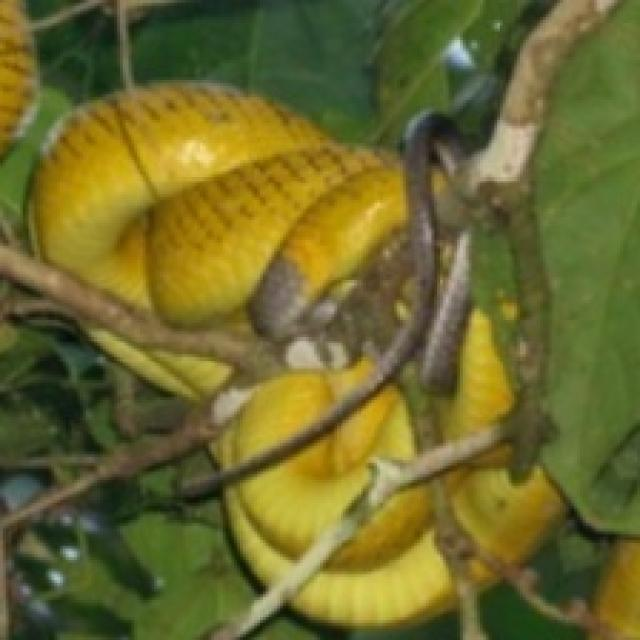red-tailed green ratsnake: (31, 83, 409, 466), (223, 311, 511, 583), (291, 483, 454, 623), (446, 446, 563, 583)
